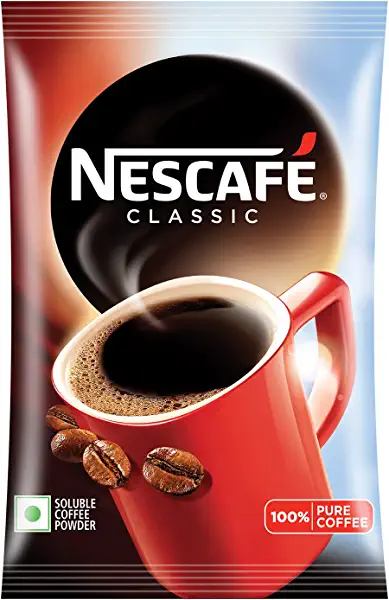veg: (15, 492, 55, 541)
